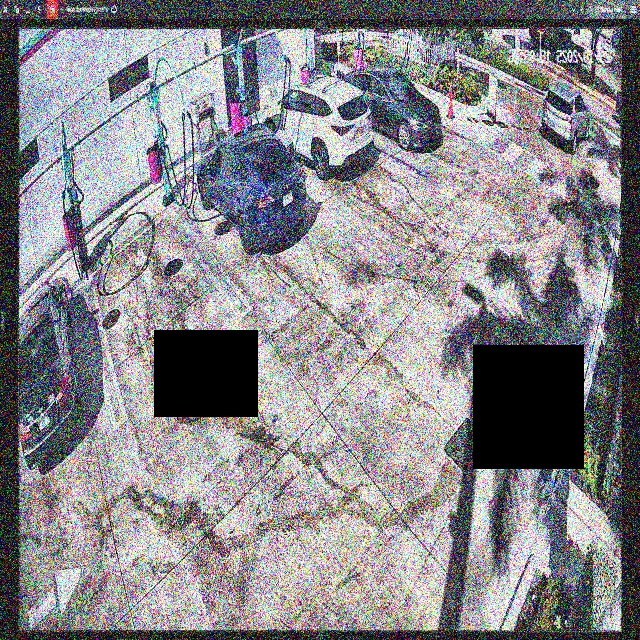Car: (195, 133, 307, 244), (261, 81, 366, 173), (341, 68, 439, 155)
